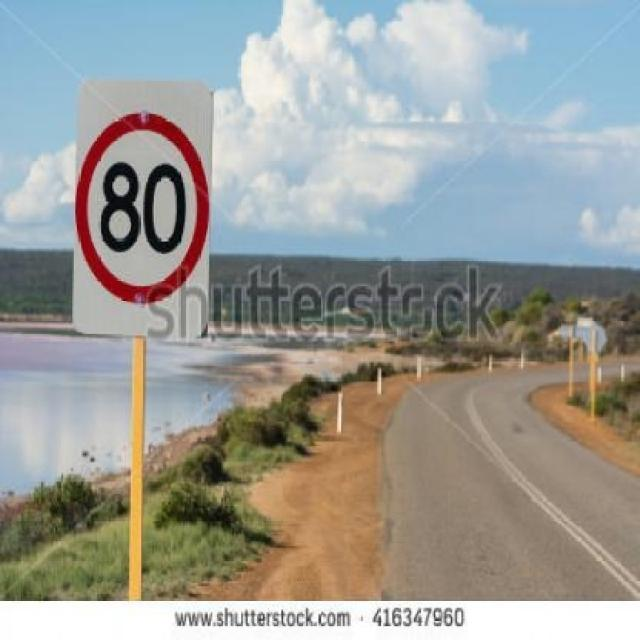forb_speed_over_80: (82, 114, 201, 297)
